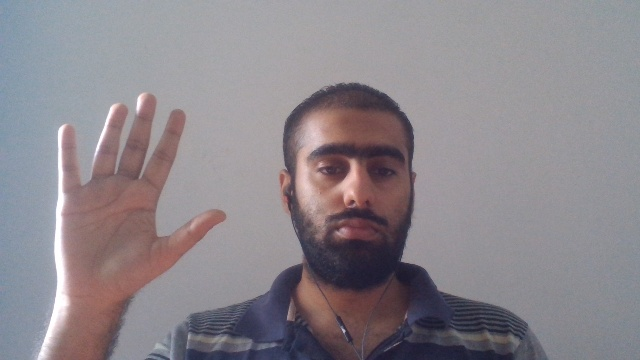paper: (52, 91, 228, 302)
